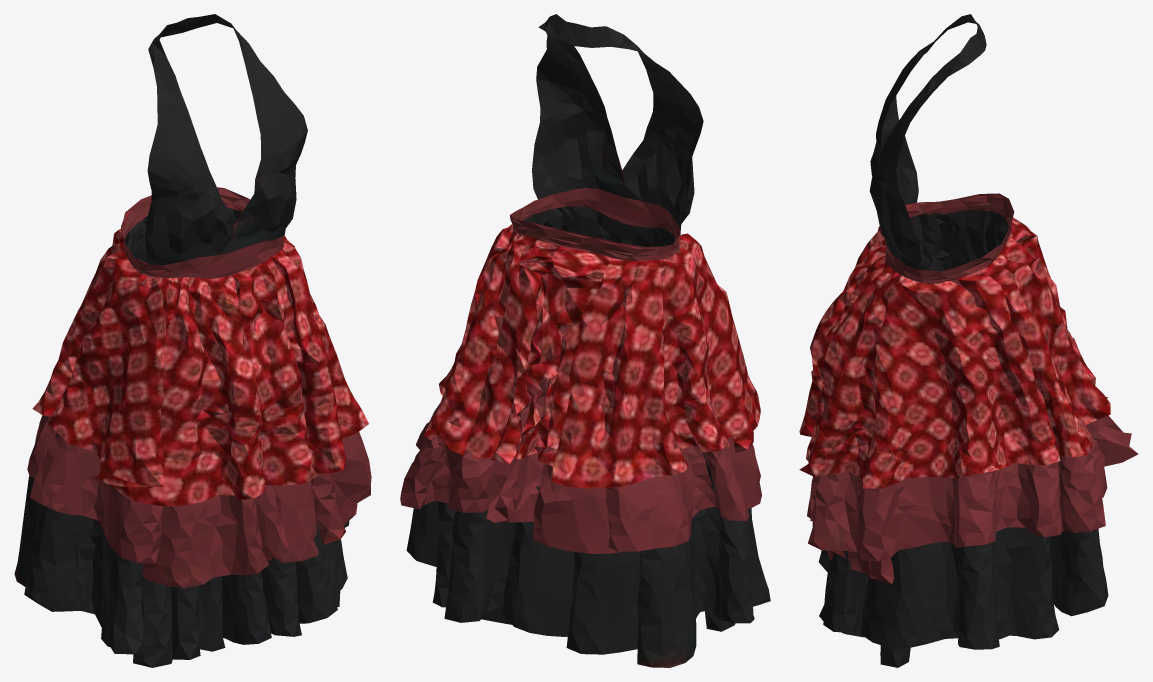
The model's file is mhw_elvs_halter_dress_tiered.glb.
3 views of the same model, side by side, from view 1: azimuth 30°, elevation 25°; view 2: azimuth 150°, elevation 25°; view 3: azimuth 270°, elevation 25° (orthographic). The views are drawn at different scales.
Parts seen in each view (by area): view 1: mhw_elvs_halter_dress_tiered; view 2: mhw_elvs_halter_dress_tiered; view 3: mhw_elvs_halter_dress_tiered.
Part boxes in pixels (left/top/right/bottom): mhw_elvs_halter_dress_tiered: left=14, top=14, right=371, bottom=667; mhw_elvs_halter_dress_tiered: left=400, top=14, right=770, bottom=667; mhw_elvs_halter_dress_tiered: left=799, top=14, right=1138, bottom=667.
Bounding box in the file's own units: 0.6751 × 1.18 × 0.6026.
1 material, 1 textured.
